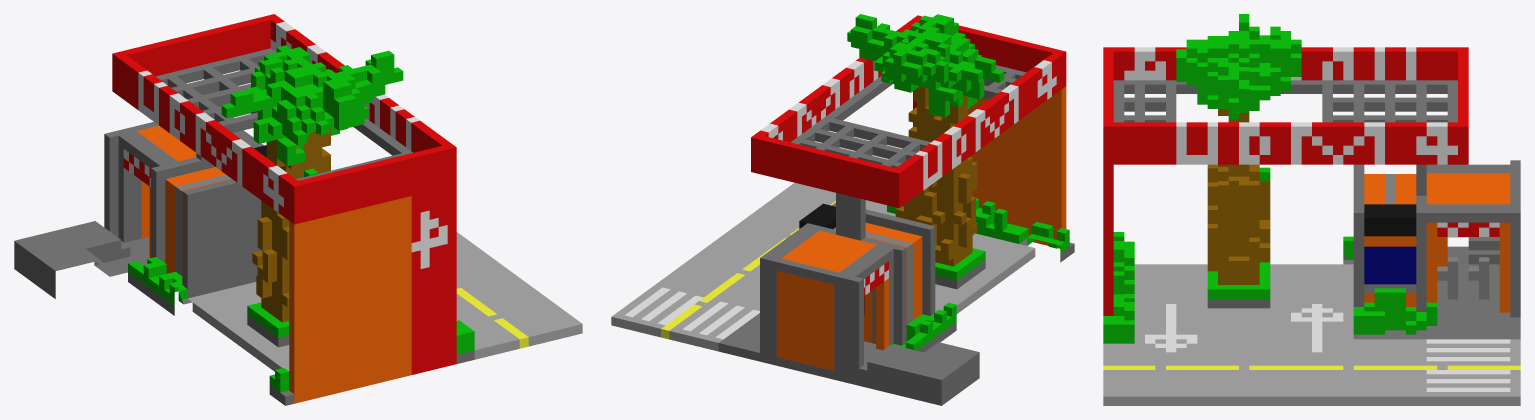
The model's file is porteria4_texture_embed (1).fbx.
The picture shows the model from 3 angles, left to right: view 1: azimuth 30°, elevation 25°; view 2: azimuth 150°, elevation 25°; view 3: azimuth 270°, elevation 25°; orthographic projection. The views are drawn at different scales.
Parts seen in each view (by area): view 1: porteria 4; view 2: porteria 4; view 3: porteria 4.
Part boxes in pixels (x1,y1,x2,y2): porteria 4: [14, 14, 582, 405]; porteria 4: [611, 14, 1074, 405]; porteria 4: [1103, 14, 1520, 405].
Size of the model in its own units: 400 by 280 by 400.
1 material, 1 textured.
